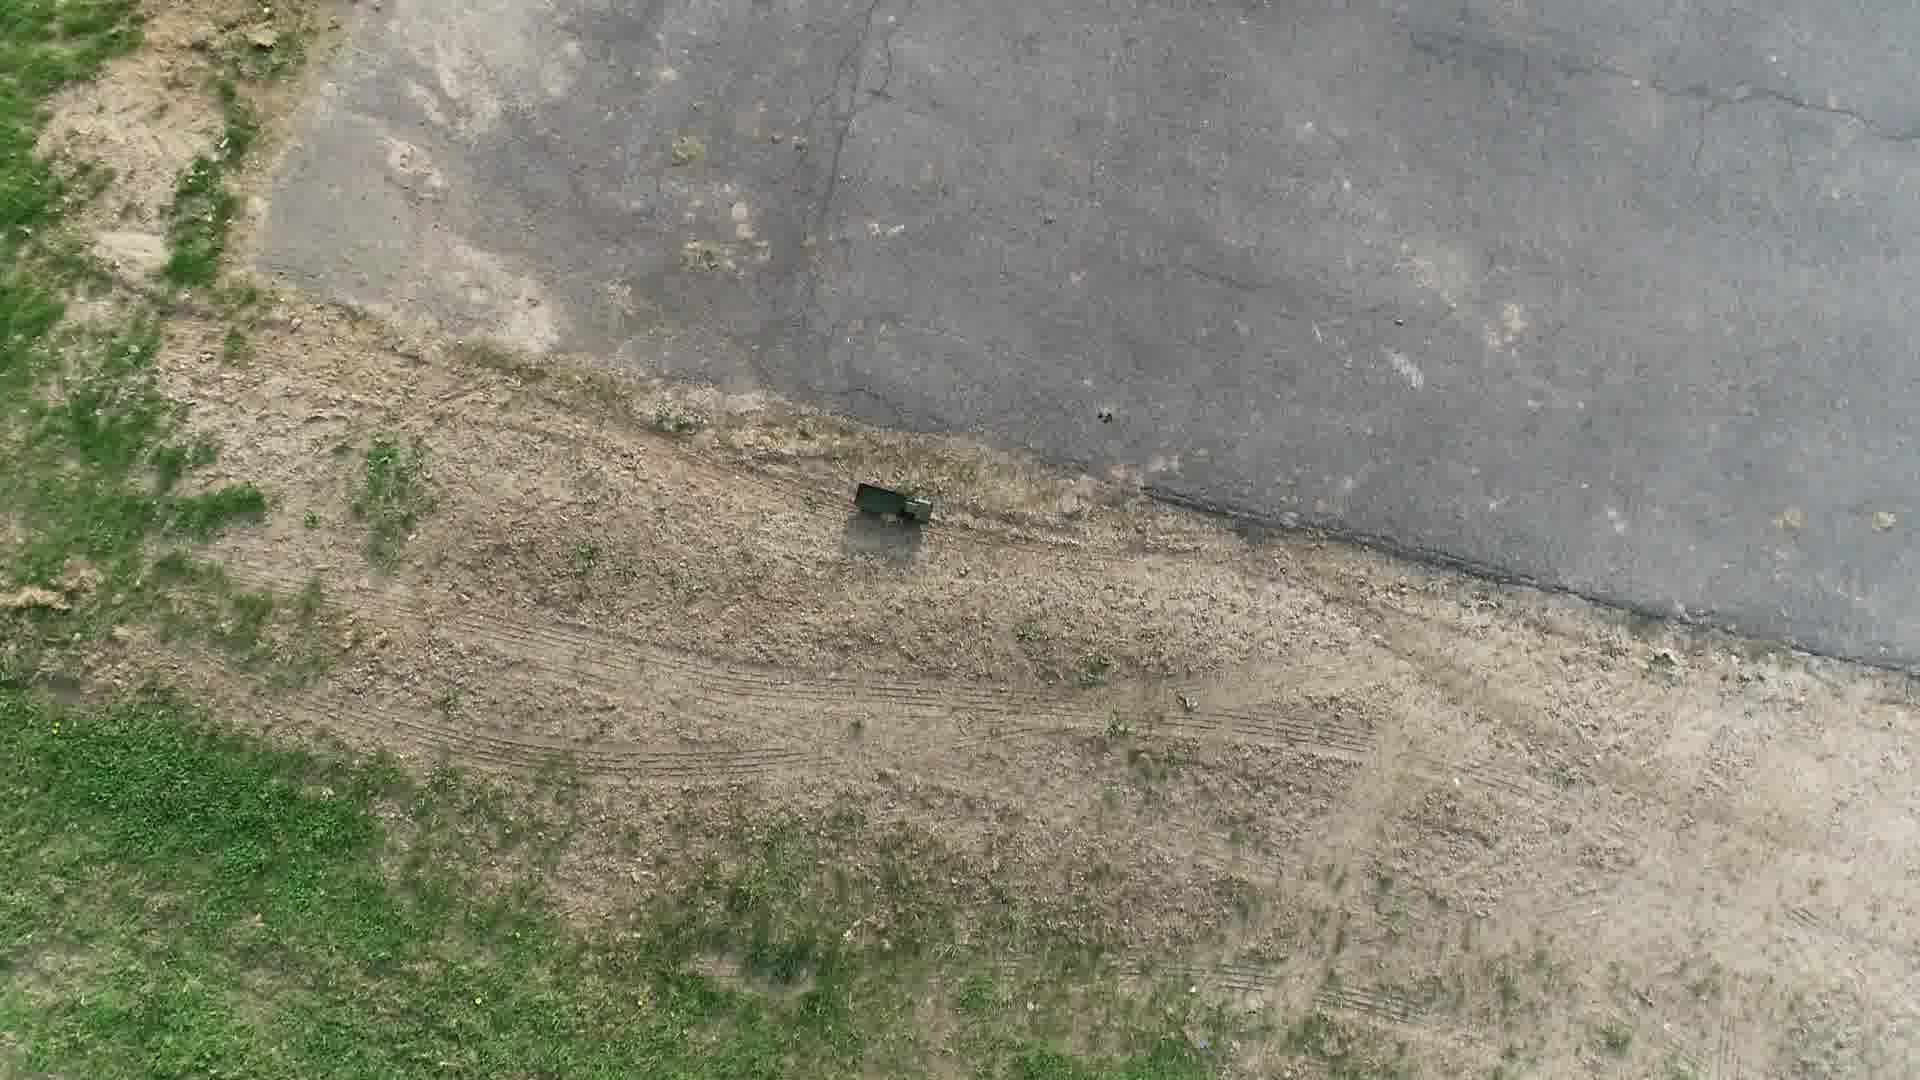transporter9: (851, 479, 940, 530)
